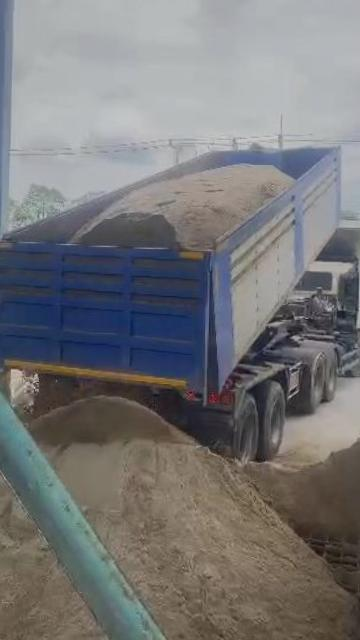sand: (0, 366, 352, 640), (0, 457, 113, 640), (73, 165, 292, 249), (246, 420, 360, 548)
